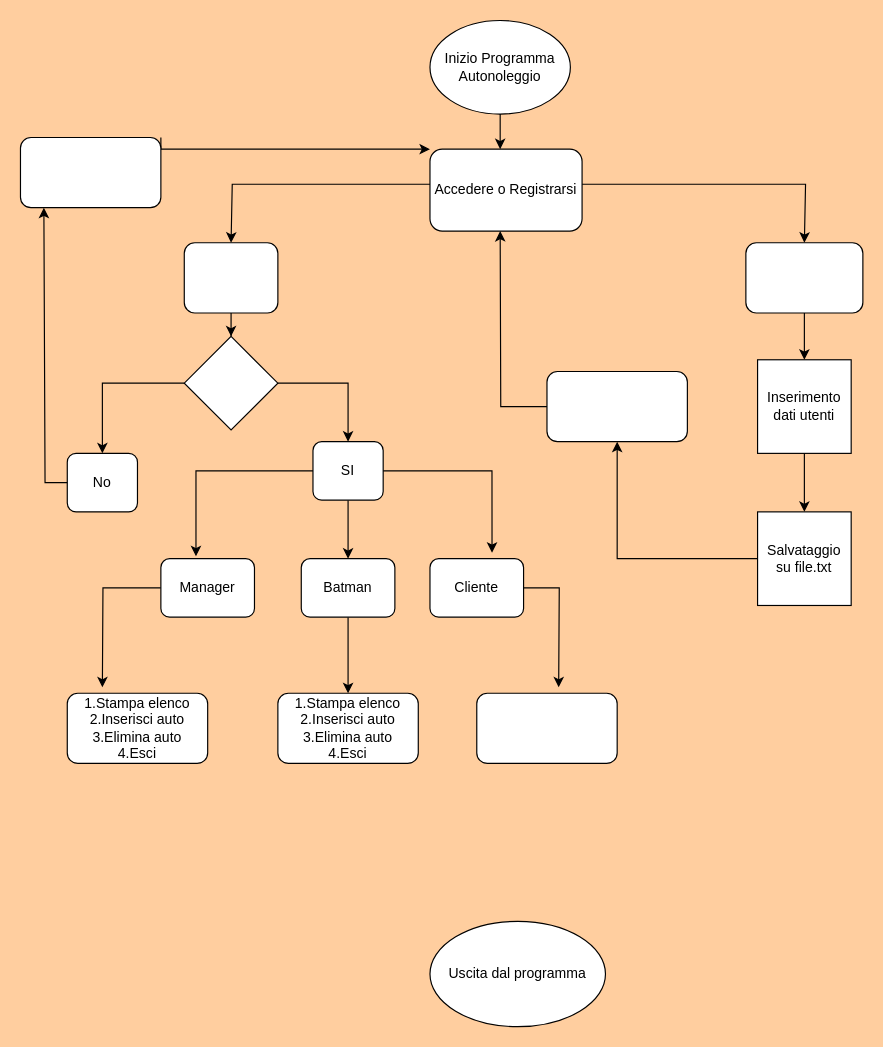
Some shapes in this 883 by 1047 pixel diagram are drawn without their labels. The shapes that lost their labels are listed below. From the top down, each one's centre as x and y in pixels, then its label:
the point at 90,172: Ritorno al menù iniziale
the point at 230,277: Login
the point at 804,277: Registrazione
the point at 230,382: Autenticato?
the point at 616,406: Ritorno al menù
the point at 546,727: 1.Ricerca 2.Noleggia 3.Esci
